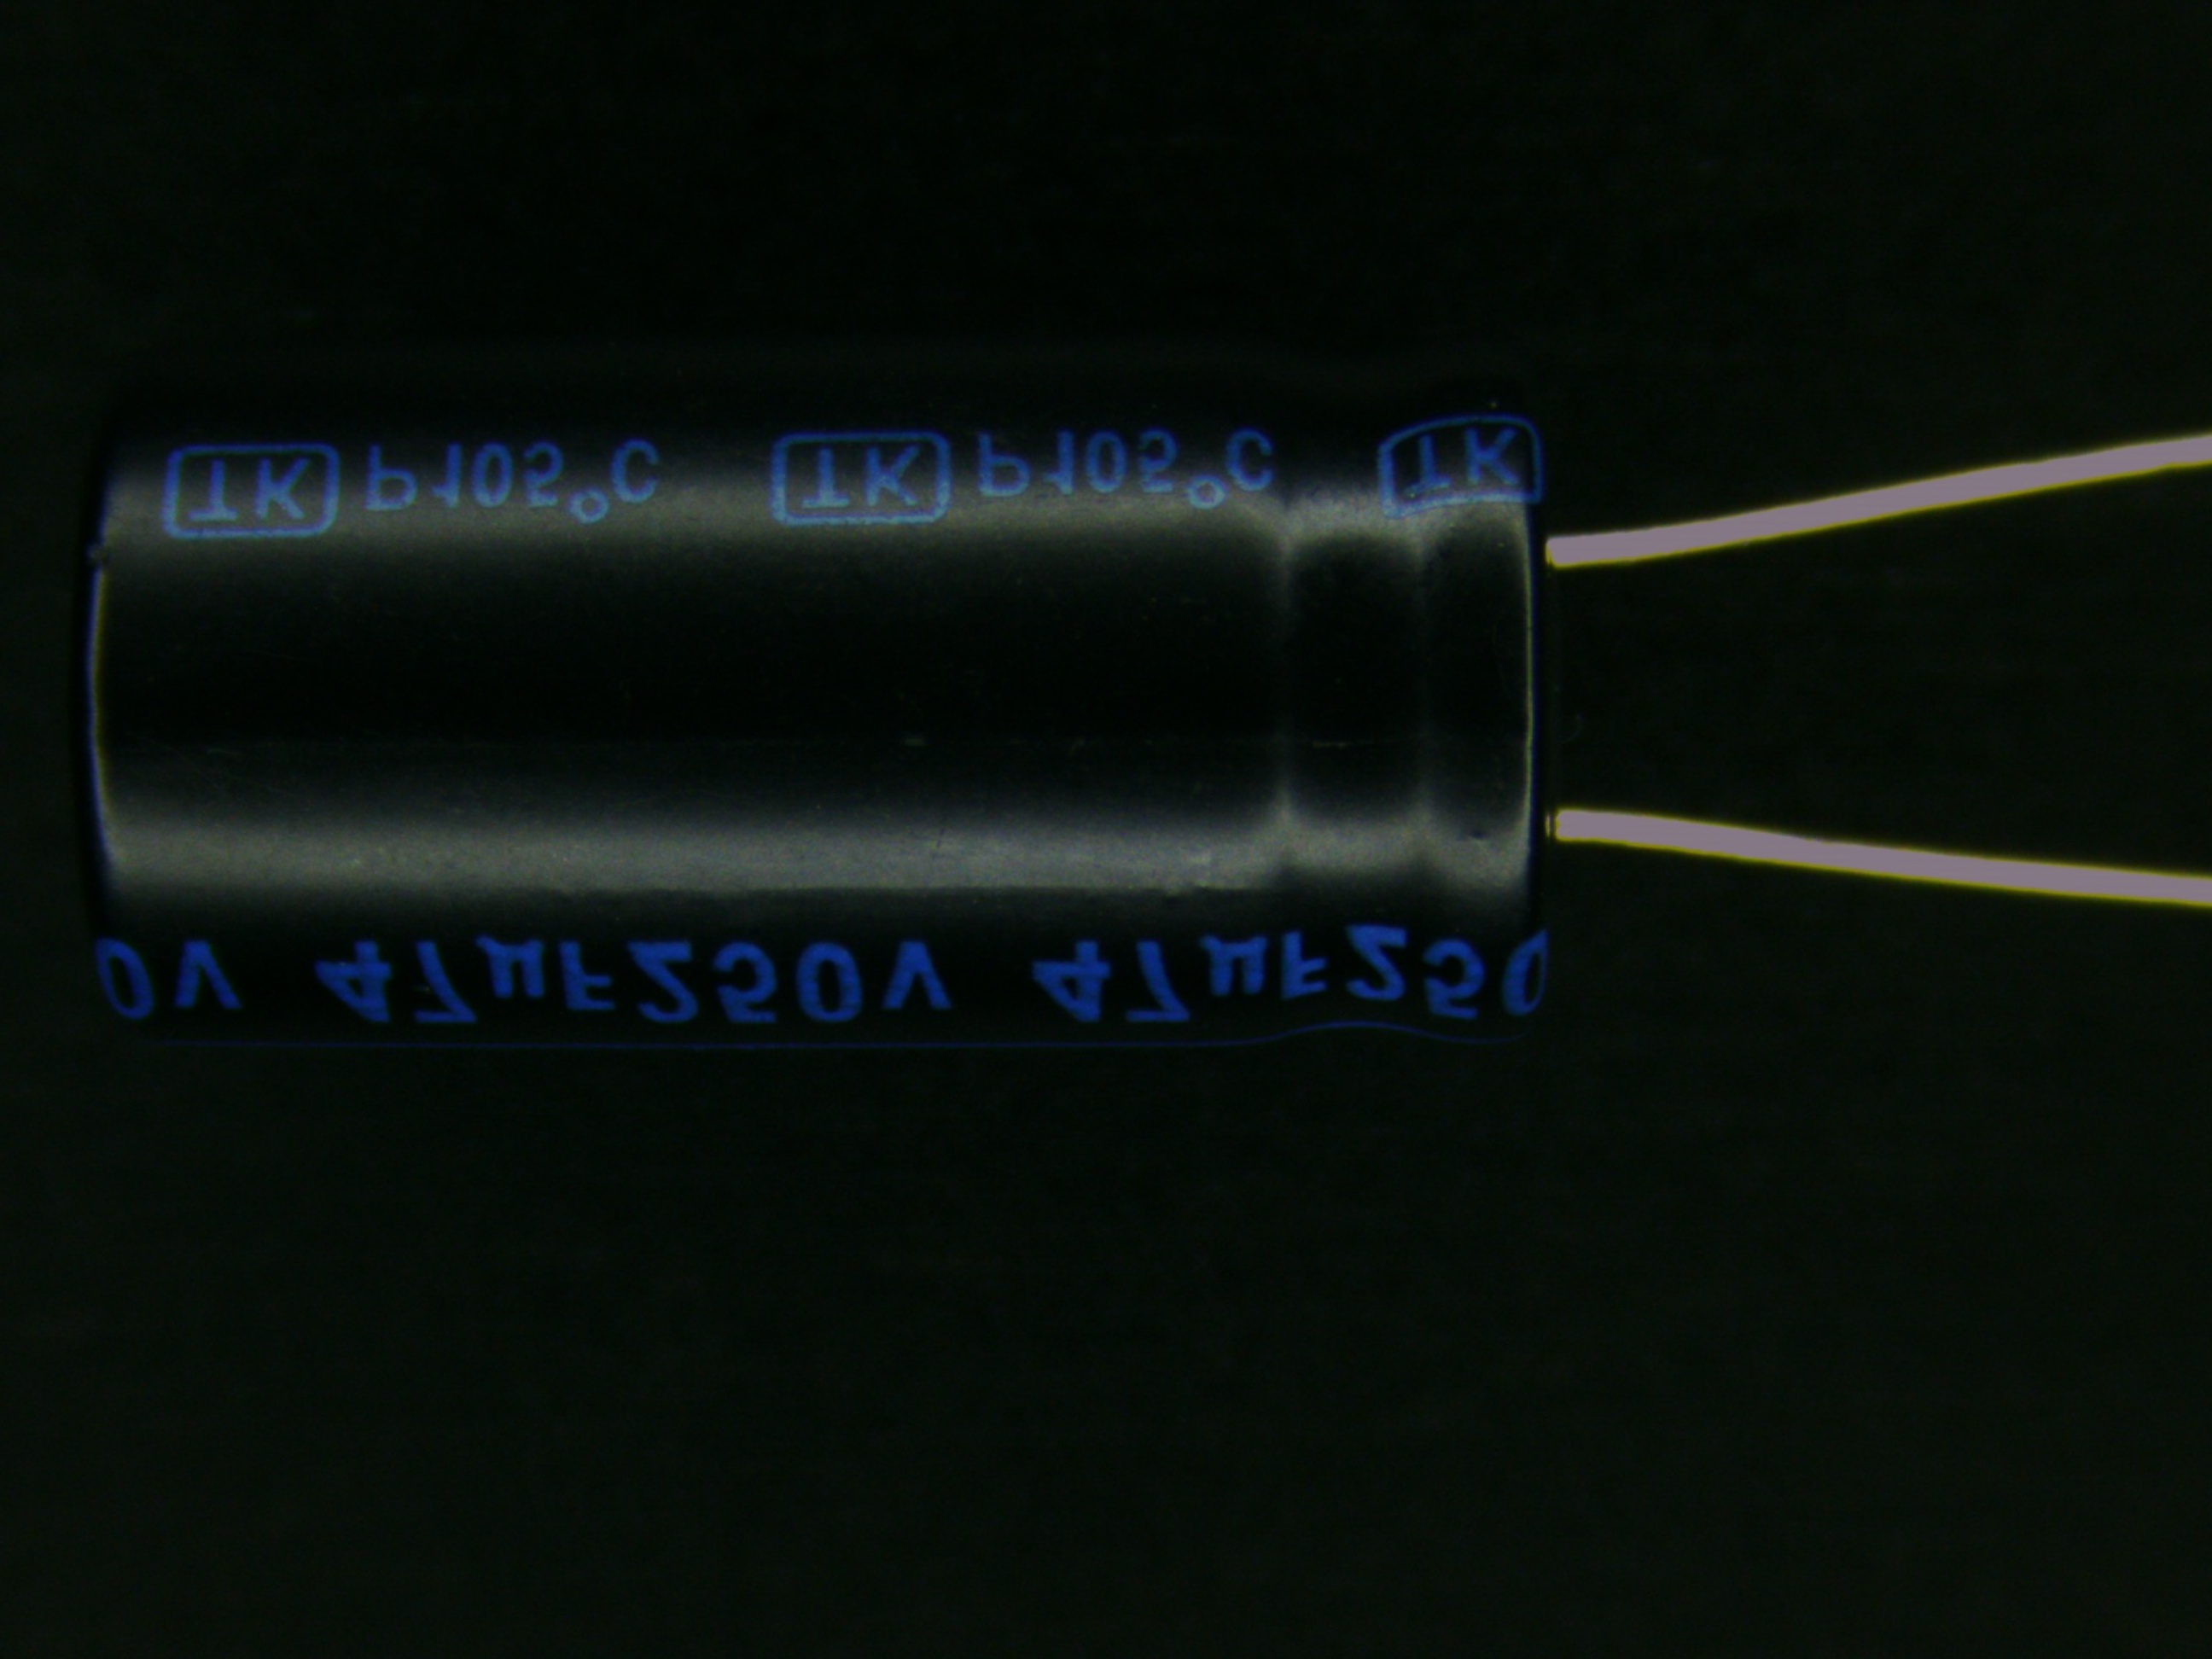c2: (57, 347, 1771, 1051)
